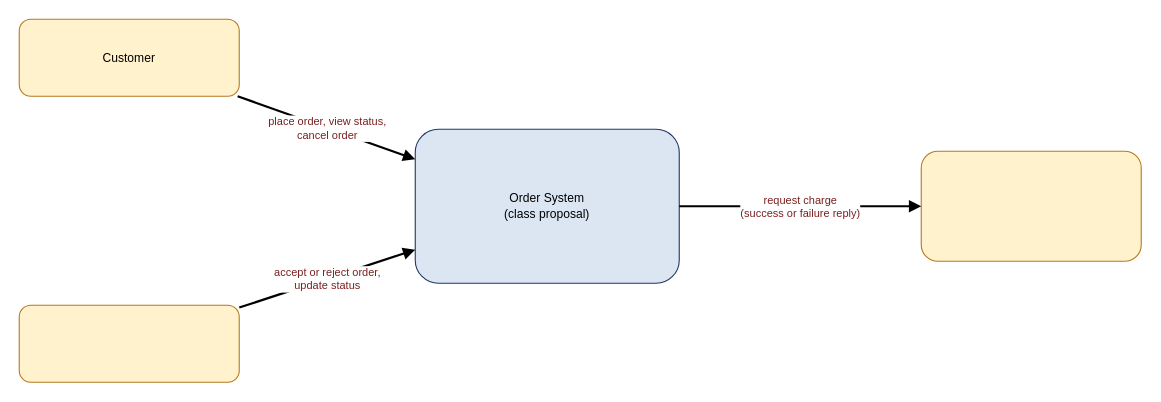
The diagram is 1161 pixels wide and 402 high, and some of its shapes have lost their labels. Each missing label, with the centre of its shape:
"Mock payment service (simulated)" belongs at (x=1030, y=205).
"Restaurant Manager" belongs at (x=128, y=343).
